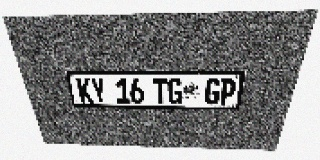1: (114, 78, 131, 103)
6: (129, 78, 144, 104)
G: (204, 78, 221, 105), (168, 78, 182, 104)
K: (76, 78, 94, 103)
P: (219, 78, 237, 105)
T: (153, 78, 167, 104)
Y: (90, 78, 107, 103)
